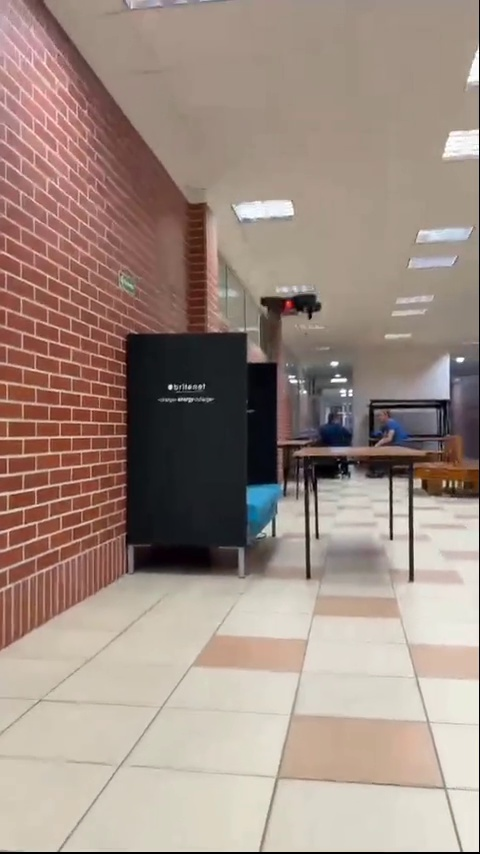drone: (259, 294, 325, 318)
no vest: (370, 401, 408, 439), (315, 405, 344, 439)
